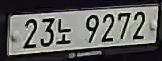2: (21, 19, 39, 50), (131, 11, 147, 41), (101, 11, 115, 44)
3: (39, 16, 56, 48)
7: (116, 11, 132, 41)
9: (82, 13, 100, 46)
노: (55, 15, 74, 47)
